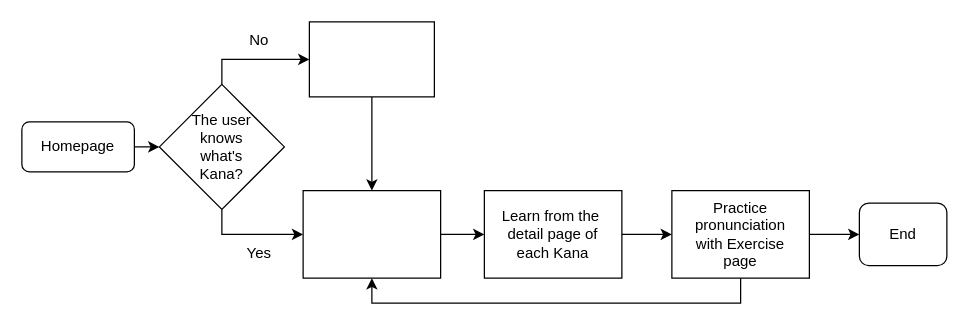
This 969x335 diagram has some shape labels left out. Each missing label, with the centre of its shape:
"Discover About Us Page" goes at point (371, 59).
"Navigate to Hiragana page to see the Kana chart" goes at point (371, 233).
